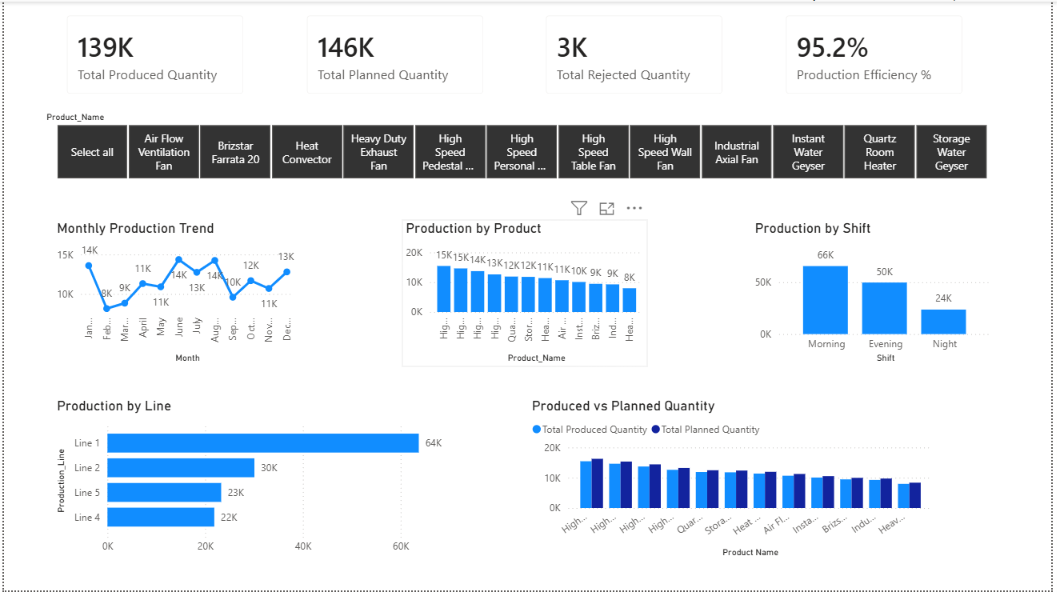

The dashboard page shown, as its layout file describes it:
{"tool":"powerbi","page":{"name":"Production Quantity Analysis","canvas":[1280,720],"ordinal":2},"visuals":[{"type":"cardVisual","fields":{"Data":["Measures (2).Total Planned Quantity"]},"box":[353,0,250,130],"z":1000},{"type":"cardVisual","fields":{"Data":["Measures (2).Total Produced Quantity"]},"box":[59.9,0,250,130],"z":2000},{"type":"cardVisual","fields":{"Data":["Measures (2).Total Rejected Quantity"]},"box":[646.1,0,250,130],"z":3000},{"type":"cardVisual","fields":{"Data":["BOM.Production Efficiency %"]},"box":[939.1,0,250,130],"z":4000},{"type":"lineChart","title":"Monthly Production Trend","fields":{"Category":["Production_Transactions.Production_Date.Variation.Date Hierarchy.Month"],"Y":["Measures (2).Total Produced Quantity"]},"box":[60,266.2,300,180],"z":5000},{"type":"clusteredColumnChart","title":"Production by Product","fields":{"Category":["Products.Product_Name"],"Y":["Measures (2).Total Produced Quantity"]},"box":[486.9,266.2,300,180],"z":6000},{"type":"clusteredColumnChart","title":"Production by Shift","fields":{"Category":["Production_Transactions.Shift"],"Y":["Measures (2).Total Produced Quantity"]},"box":[913.8,266.2,300,180],"z":7000},{"type":"clusteredBarChart","title":"Production by Line","fields":{"Category":["Production_Transactions.Production_Line"],"Y":["Measures (2).Total Produced Quantity"]},"box":[60,484,500,200],"z":8000},{"type":"clusteredColumnChart","title":"Produced vs Planned Quantity","fields":{"Category":["Products.Product_Name"],"Y":["Measures (2).Total Produced Quantity","Measures (2).Total Planned Quantity"]},"box":[640.2,484,500,200],"z":9000},{"type":"slicer","fields":{"Values":["Products.Product_Name"]},"box":[38.8,130,1186.2,93.8],"z":10000}]}

Visuals, with their boxes in screenshot pixels (x1, y1, x2, y2), scaled from the page's 1280x720 canvas onto the 1057x594 screenshot:
cardVisual - Measures (2).Total Planned Quantity: 292,0,498,107
cardVisual - Measures (2).Total Produced Quantity: 49,0,256,107
cardVisual - Measures (2).Total Rejected Quantity: 534,0,740,107
cardVisual - BOM.Production Efficiency %: 775,0,982,107
"Monthly Production Trend" lineChart: 50,220,297,368
"Production by Product" clusteredColumnChart: 402,220,650,368
"Production by Shift" clusteredColumnChart: 755,220,1002,368
"Production by Line" clusteredBarChart: 50,399,462,564
"Produced vs Planned Quantity" clusteredColumnChart: 529,399,942,564
slicer - Products.Product_Name: 32,107,1012,185
